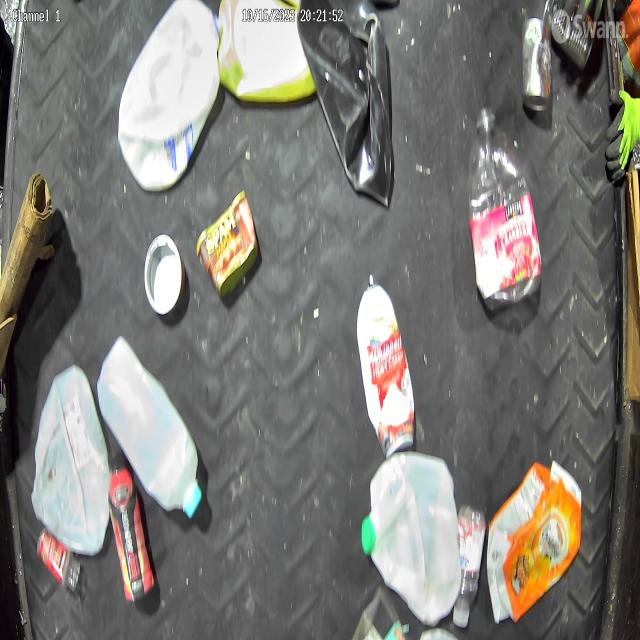can: (355, 272, 416, 459), (542, 0, 596, 72), (143, 232, 186, 316), (521, 15, 552, 114)
milk_jug: (117, 0, 222, 192), (96, 336, 202, 518), (362, 451, 461, 627), (30, 364, 112, 556)
non_white_jug: (297, 0, 394, 209), (486, 461, 583, 626), (217, 0, 314, 104)
plastic_bottle: (467, 106, 542, 314), (453, 503, 486, 628)
